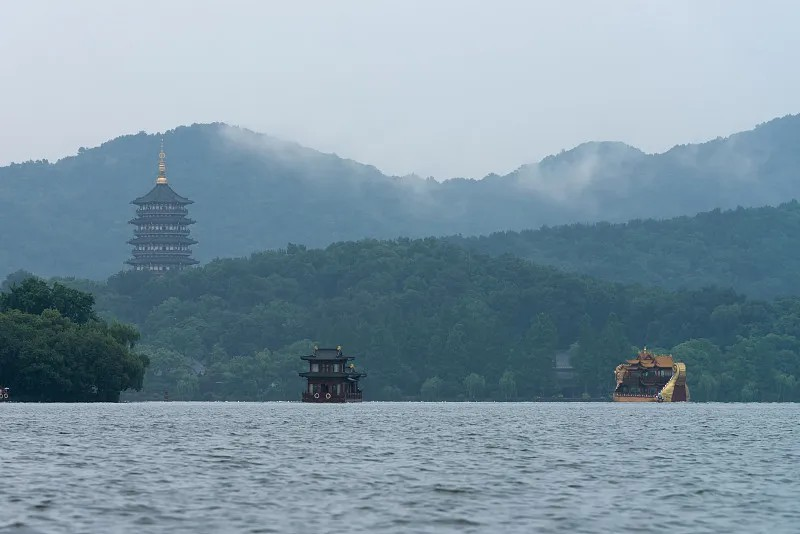Leifeng: (123, 137, 200, 275)
